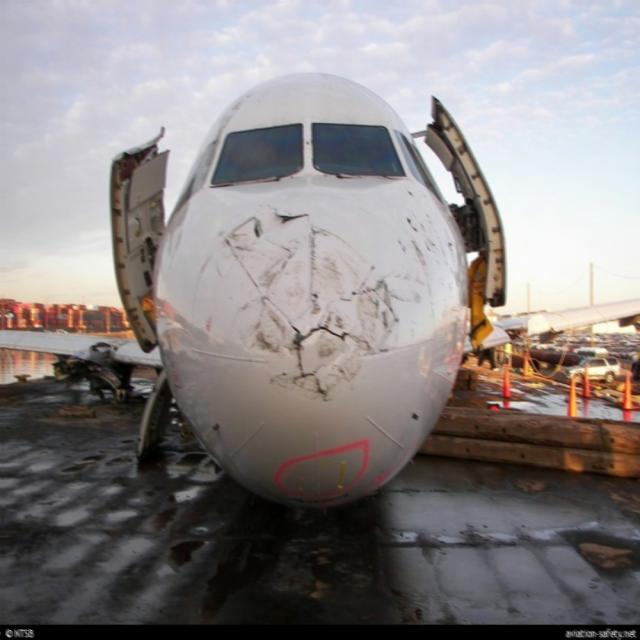crack: (204, 216, 408, 418)
